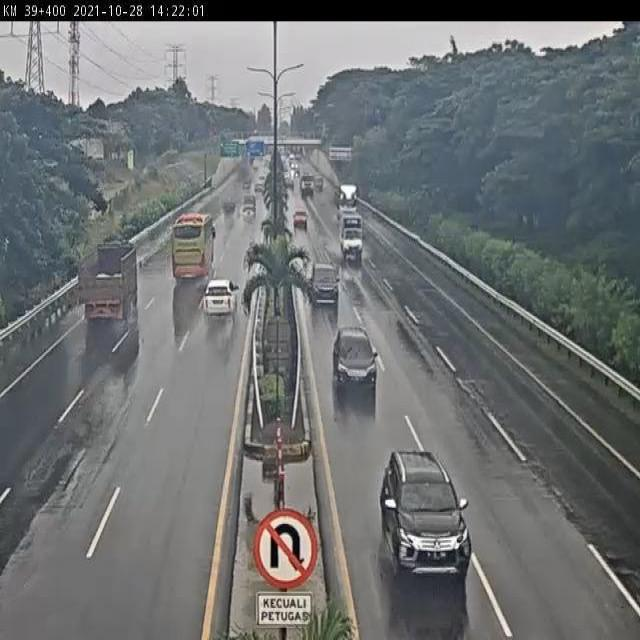car: (377, 449, 471, 580), (332, 327, 378, 391), (198, 279, 239, 320), (307, 261, 341, 304), (292, 206, 309, 230)
truck: (74, 241, 141, 331), (168, 212, 216, 285), (342, 215, 365, 261)
